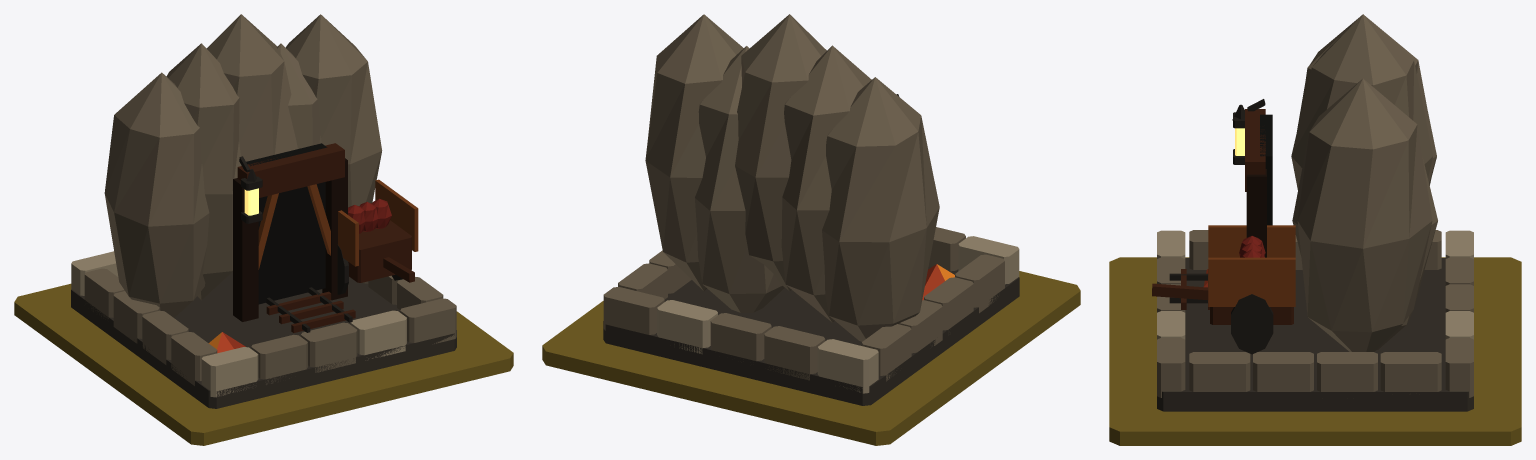
File: emberglass_t4.glb
3 renders of one model, left to right at view 1: azimuth 30°, elevation 25°; view 2: azimuth 150°, elevation 25°; view 3: azimuth 270°, elevation 25°, orthographic. The views are drawn at different scales.
Visible parts, largest first — view 1: MMR | emberglass | T04 Architecture.001, MMR | emberglass | Tier 04 Ground.001; view 2: MMR | emberglass | T04 Architecture.001, MMR | emberglass | Tier 04 Ground.001; view 3: MMR | emberglass | T04 Architecture.001, MMR | emberglass | Tier 04 Ground.001.
Boxes of the visible parts, <box> form: MMR | emberglass | T04 Architecture.001: <box>71,14,456,408</box>; MMR | emberglass | Tier 04 Ground.001: <box>14,283,513,445</box>; MMR | emberglass | T04 Architecture.001: <box>603,14,1019,405</box>; MMR | emberglass | Tier 04 Ground.001: <box>542,271,1080,445</box>; MMR | emberglass | T04 Architecture.001: <box>1152,14,1473,411</box>; MMR | emberglass | Tier 04 Ground.001: <box>1109,257,1521,445</box>.
Size of the model in its own units: 1.3 by 1.2 by 1.3.
Materials: 2 (1 with a texture image).
